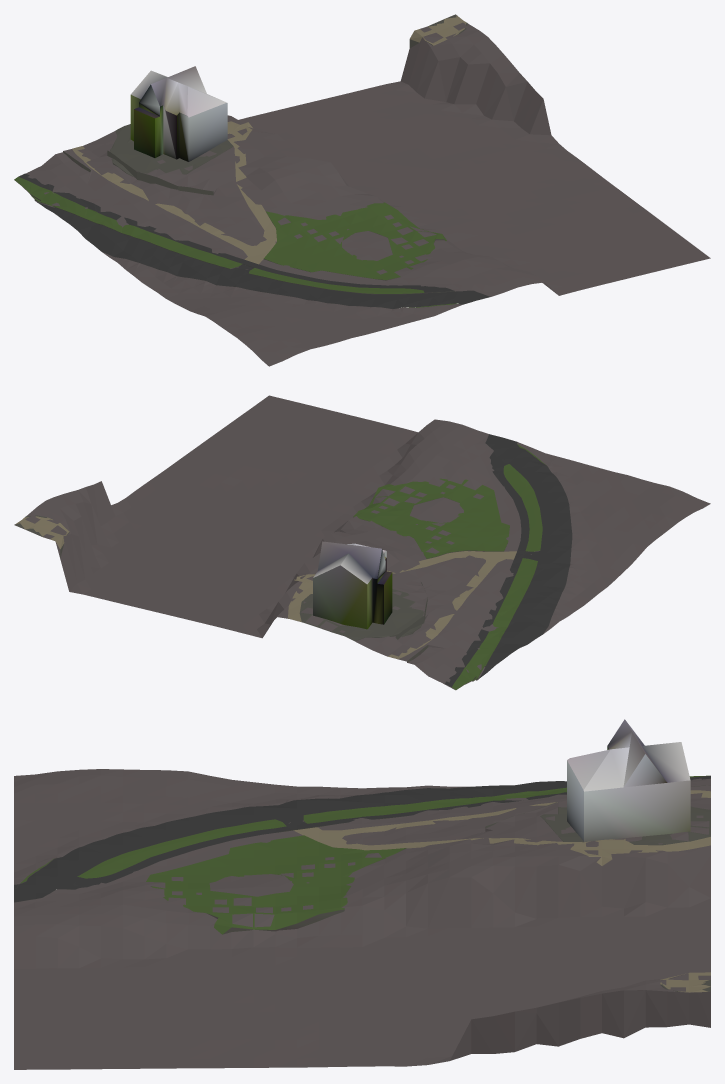
The picture shows the model from 3 angles, top to bottom: view 1: azimuth 30°, elevation 25°; view 2: azimuth 150°, elevation 25°; view 3: azimuth 270°, elevation 25°; orthographic projection. The views are drawn at different scales.
Visible parts, largest first — view 1: c_m07_m12; view 2: c_m07_m12; view 3: c_m07_m12.
Part boxes in pixels (x1,y1,x2,y2): c_m07_m12: (14,14,710,366); c_m07_m12: (14,395,710,690); c_m07_m12: (14,719,710,1069).
Size of the model in its own units: 128 by 28.25 by 128.
